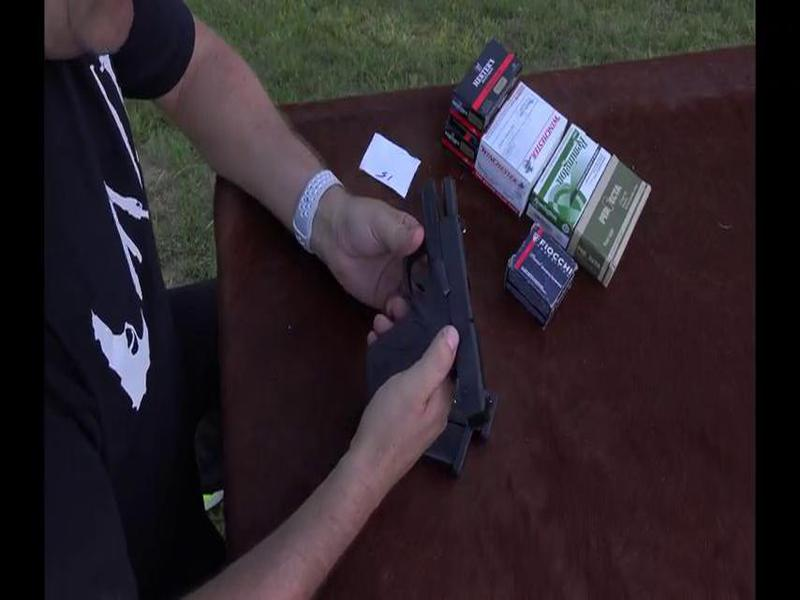Pistola: (338, 154, 497, 427)
